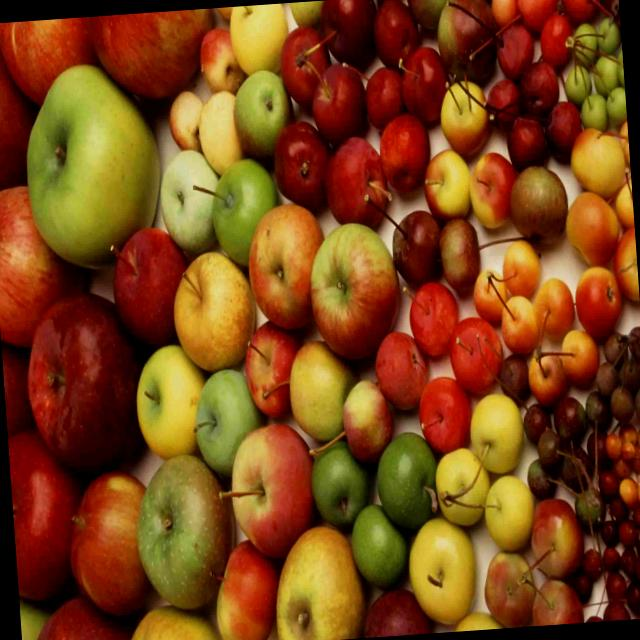alpple: (17, 55, 168, 270), (25, 295, 144, 464), (306, 212, 398, 357), (228, 418, 318, 566)
